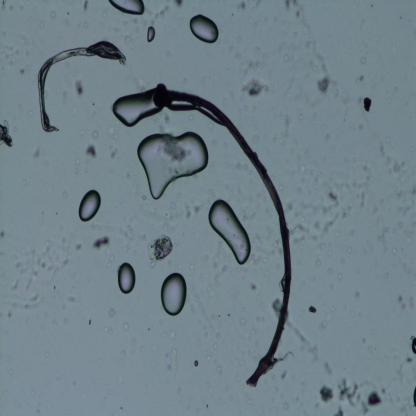Air bubble: (136, 129, 209, 200), (209, 199, 252, 265), (112, 87, 162, 128), (158, 270, 188, 317), (190, 14, 219, 45), (78, 189, 102, 223), (109, 0, 146, 17), (118, 261, 135, 295), (146, 25, 156, 44)
Background material: (292, 184, 346, 244), (7, 237, 82, 280), (0, 34, 34, 76), (336, 376, 367, 416), (286, 321, 320, 355), (390, 180, 416, 216), (302, 40, 328, 76), (248, 234, 273, 271), (235, 50, 266, 76), (378, 145, 404, 175), (147, 232, 173, 262), (240, 76, 272, 97), (118, 223, 140, 252), (278, 0, 306, 22), (184, 196, 206, 220), (12, 293, 41, 310), (164, 345, 182, 372), (0, 119, 15, 149), (375, 227, 390, 255), (276, 112, 289, 143), (150, 2, 169, 23), (211, 264, 227, 286), (341, 173, 357, 194), (319, 382, 334, 404), (316, 75, 332, 95), (92, 234, 112, 250), (318, 356, 334, 376), (399, 224, 414, 245), (358, 185, 370, 211), (361, 92, 373, 116), (367, 391, 382, 410), (108, 140, 122, 160), (270, 293, 282, 316), (360, 164, 371, 182), (86, 143, 99, 158), (297, 166, 309, 182), (332, 79, 340, 102), (75, 77, 84, 97), (409, 334, 416, 359), (299, 22, 311, 35), (396, 296, 407, 310), (355, 119, 365, 134), (73, 158, 81, 176), (124, 36, 136, 48), (377, 385, 389, 397), (32, 146, 42, 160), (107, 126, 117, 140), (246, 281, 258, 292), (100, 324, 113, 334), (356, 53, 367, 64), (238, 0, 248, 12), (166, 331, 178, 341), (282, 51, 291, 64), (412, 383, 416, 412), (213, 364, 224, 374), (37, 18, 46, 30), (383, 134, 392, 145), (309, 303, 318, 314), (0, 0, 11, 9), (109, 307, 117, 319), (82, 0, 90, 12), (328, 266, 336, 278), (133, 23, 143, 32), (92, 130, 101, 140), (186, 261, 196, 270), (66, 295, 76, 304), (342, 96, 350, 107), (174, 0, 185, 8), (355, 75, 366, 83), (186, 113, 194, 124), (280, 366, 286, 380), (316, 258, 324, 268), (192, 358, 200, 368), (148, 260, 158, 268), (122, 322, 130, 331), (26, 110, 35, 118), (405, 355, 414, 363), (351, 290, 360, 298), (320, 321, 328, 330), (346, 245, 355, 253), (164, 115, 170, 127), (310, 273, 318, 282), (61, 90, 68, 100), (310, 114, 316, 125), (5, 310, 13, 318), (238, 319, 246, 327), (395, 220, 403, 228), (336, 274, 344, 282), (61, 318, 68, 327), (385, 96, 392, 105), (0, 231, 6, 241), (20, 178, 27, 186), (390, 247, 398, 254), (51, 10, 58, 18), (282, 404, 290, 411), (329, 306, 336, 314), (202, 330, 209, 337), (86, 318, 92, 326), (102, 11, 107, 20), (273, 387, 279, 394), (82, 21, 88, 28), (361, 337, 366, 344), (300, 114, 304, 122), (84, 165, 88, 173), (217, 331, 220, 341), (250, 398, 254, 405), (64, 192, 67, 200), (217, 314, 221, 320), (55, 211, 59, 215), (399, 16, 403, 20), (91, 102, 95, 106)
Cellulose filter fibre: (37, 38, 127, 134)
Microfibre: (153, 86, 294, 388)
